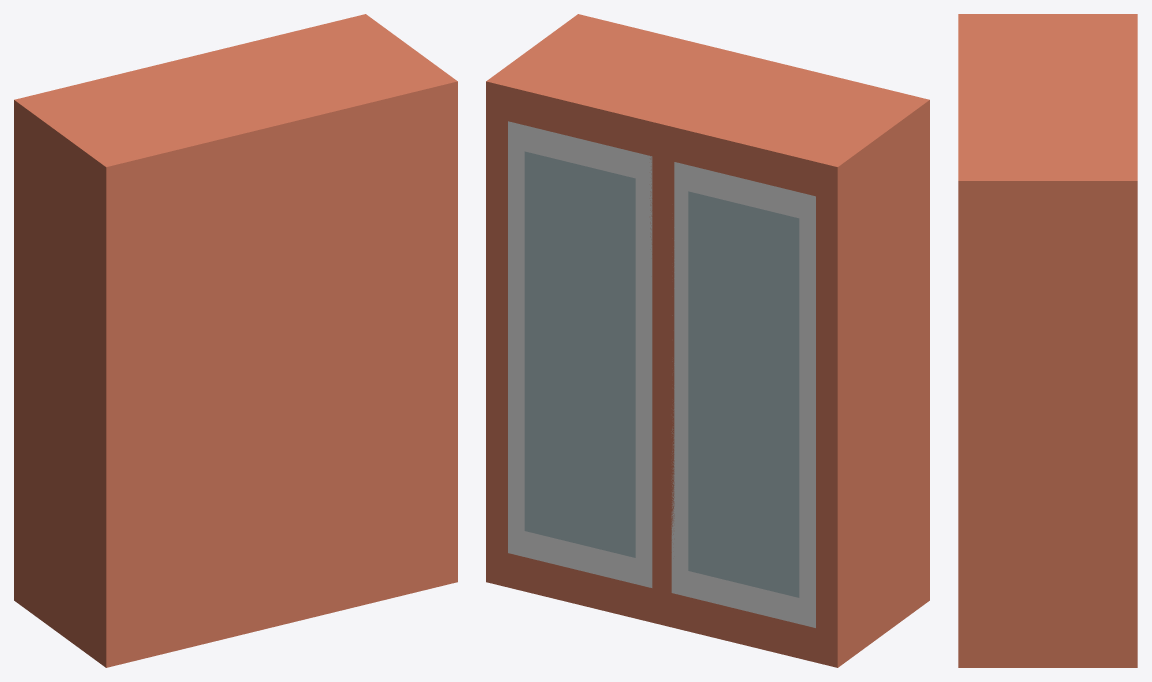
The picture shows the model from 3 angles, left to right: view 1: azimuth 30°, elevation 25°; view 2: azimuth 150°, elevation 25°; view 3: azimuth 270°, elevation 25°; orthographic projection. The views are drawn at different scales.
Parts seen in each view (by area): view 1: mergedBlocks(Clone); view 2: mergedBlocks(Clone); view 3: mergedBlocks(Clone).
Part boxes in pixels (left/top/right/bottom): mergedBlocks(Clone): left=14, top=14, right=457, bottom=667; mergedBlocks(Clone): left=486, top=14, right=929, bottom=667; mergedBlocks(Clone): left=958, top=14, right=1137, bottom=667.
Size of the model in its own units: 0.86 by 1.17 by 0.39.
